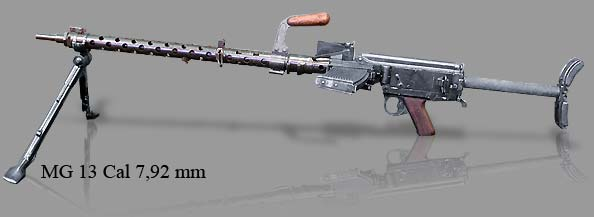rifle: (10, 7, 593, 191)
